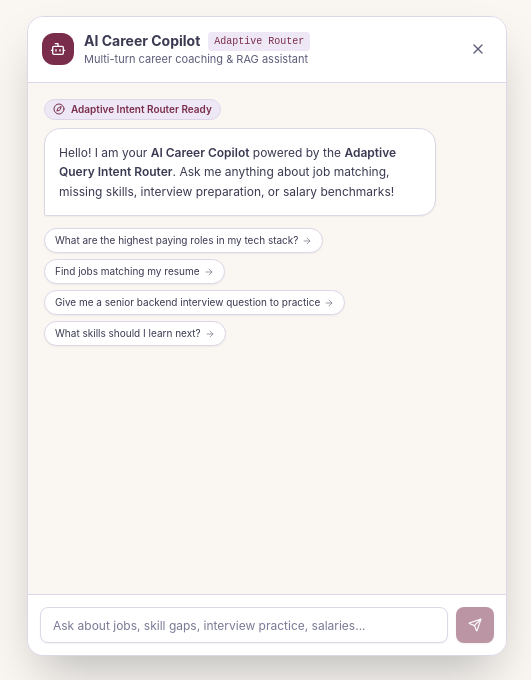
it: CopilotChatDrawer Component › renders Degraded Execution warning banner when backend reports degraded status
The width and height of the screenshot is (531, 680).
Step 1. Type "Find jobs" into the field with placeholder "Ask about jobs, skill gaps, interview practice, salaries..." → x=244, y=625, box [40, 607, 448, 643]
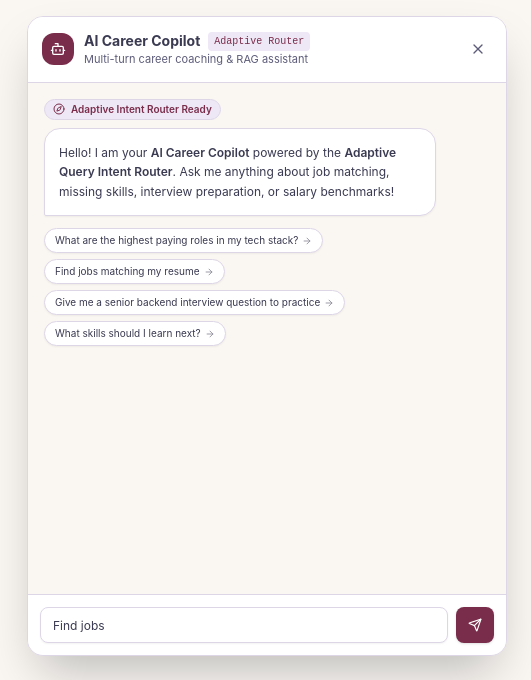
Step 2. Submit the form with placeholder "ask about jobs", box [40, 607, 494, 643]
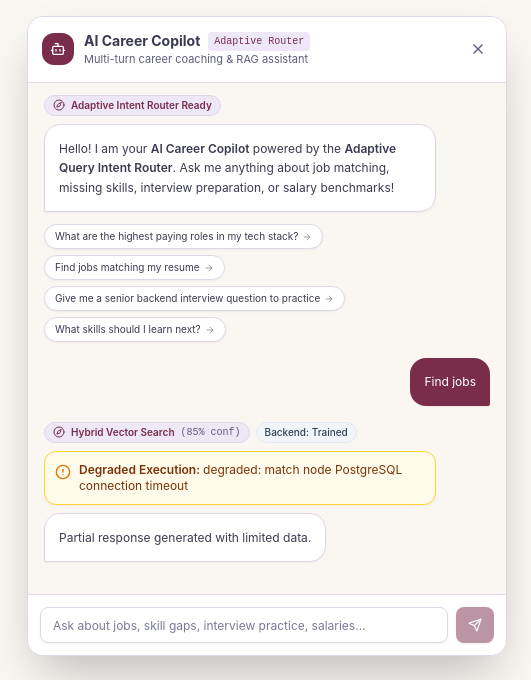
Now the text "Degraded Execution:" is shown, box [79, 462, 203, 476]
Now the text "degraded: match node PostgreSQL connection timeout" is shown, box [79, 462, 402, 492]
